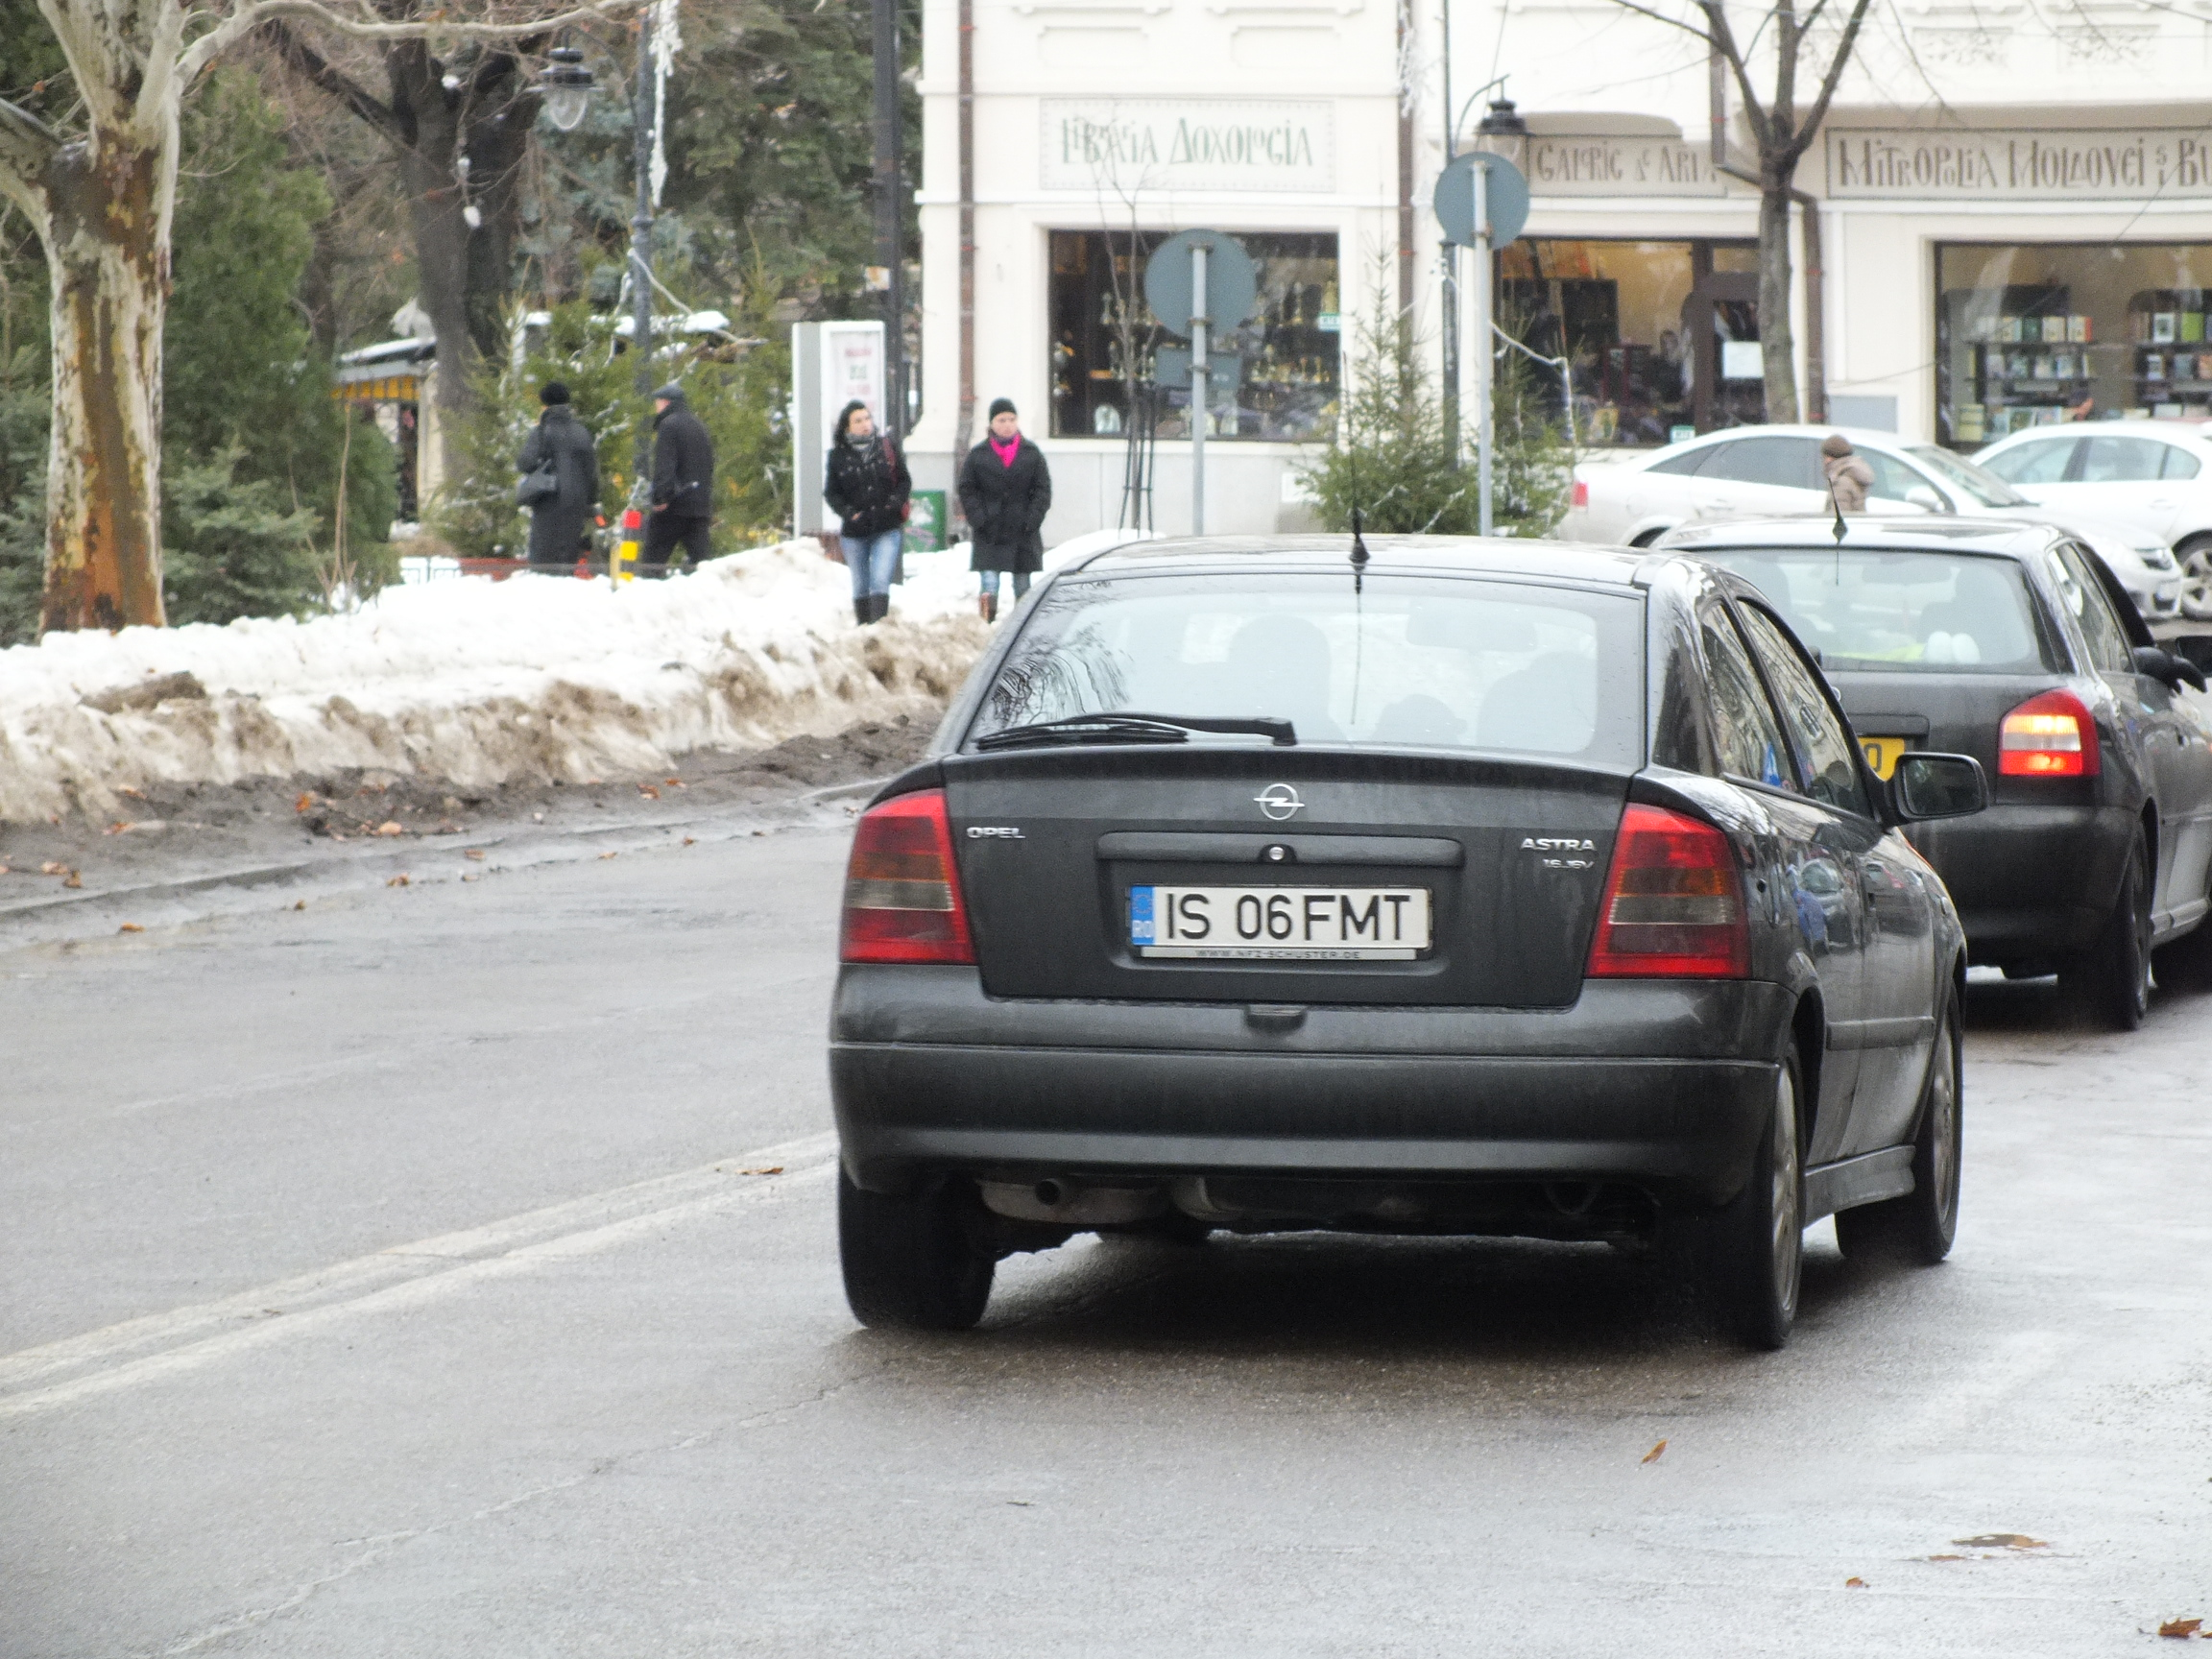IS06FMT: (1129, 890, 1415, 957)
